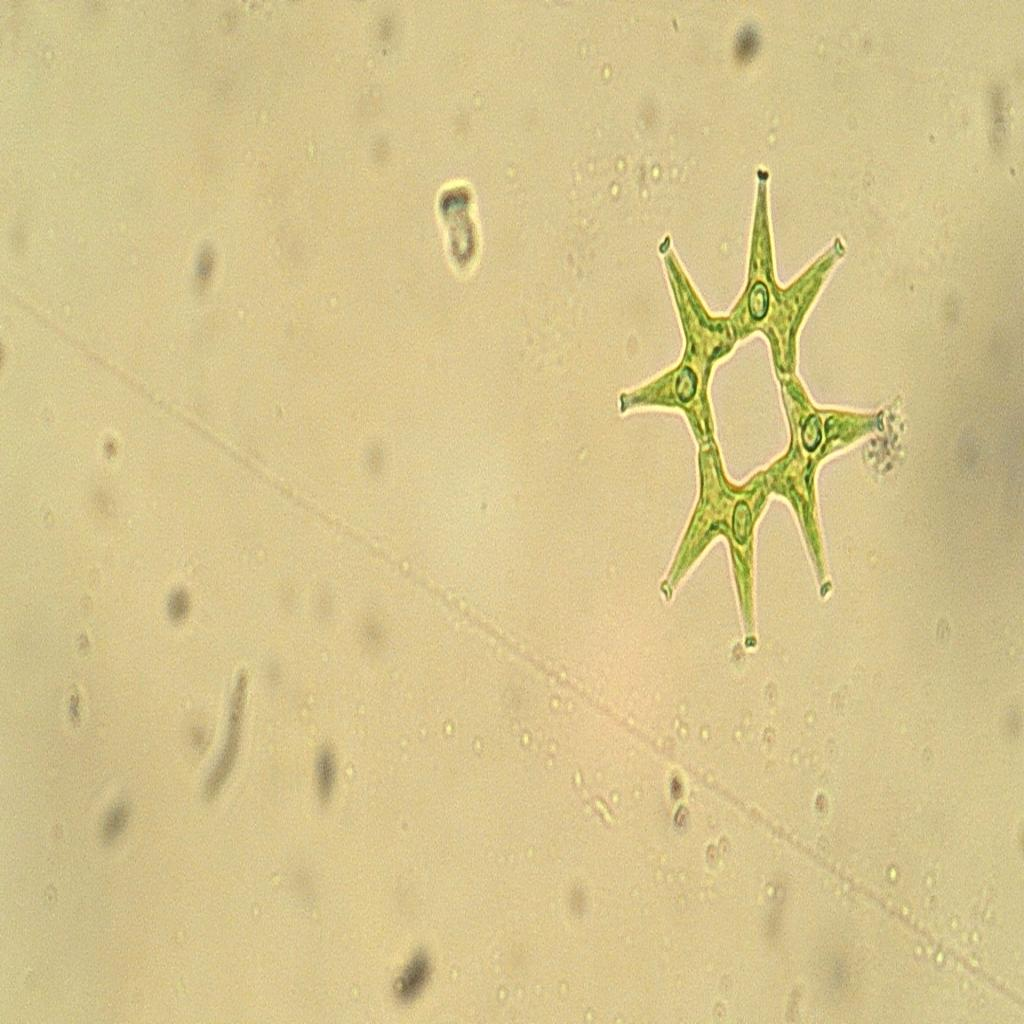Pediastrum_75O: (608, 119, 895, 676)
